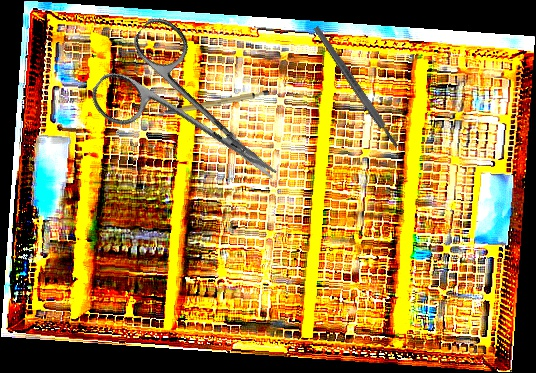Iris Scissors: (83, 10, 308, 224)
Scalpel Handle: (312, 24, 401, 150), (153, 88, 270, 117)
